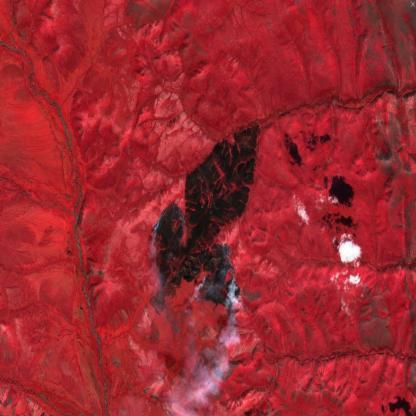fire: (144, 112, 262, 328)
